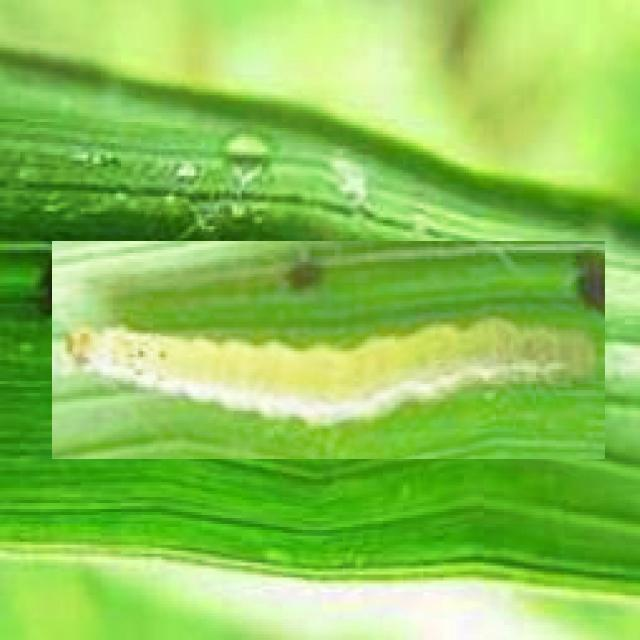leaf-folder: (52, 241, 605, 459)
